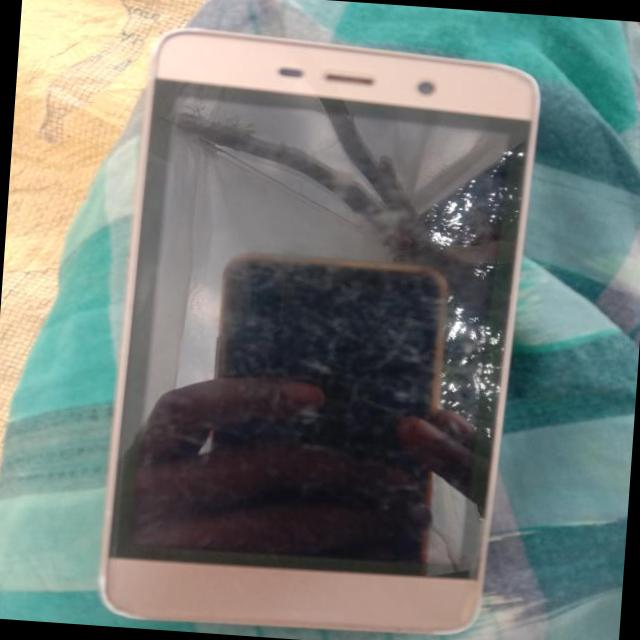screen crack: (400, 124, 540, 444), (160, 86, 380, 252)
